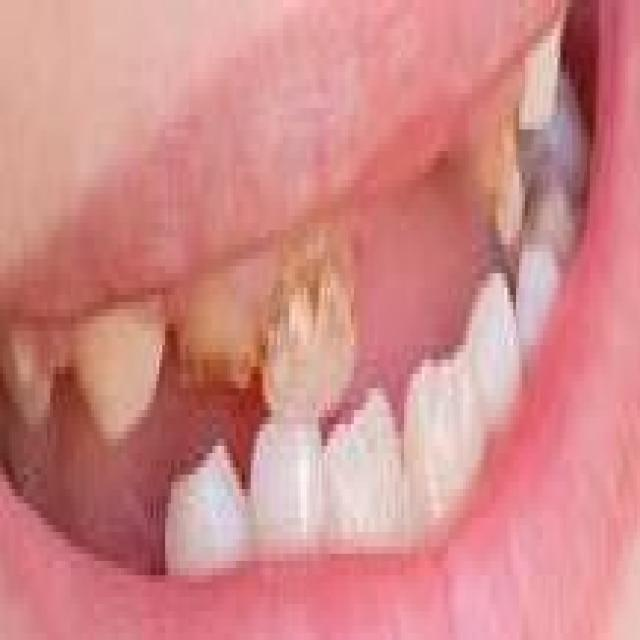caries: (166, 274, 265, 416)
